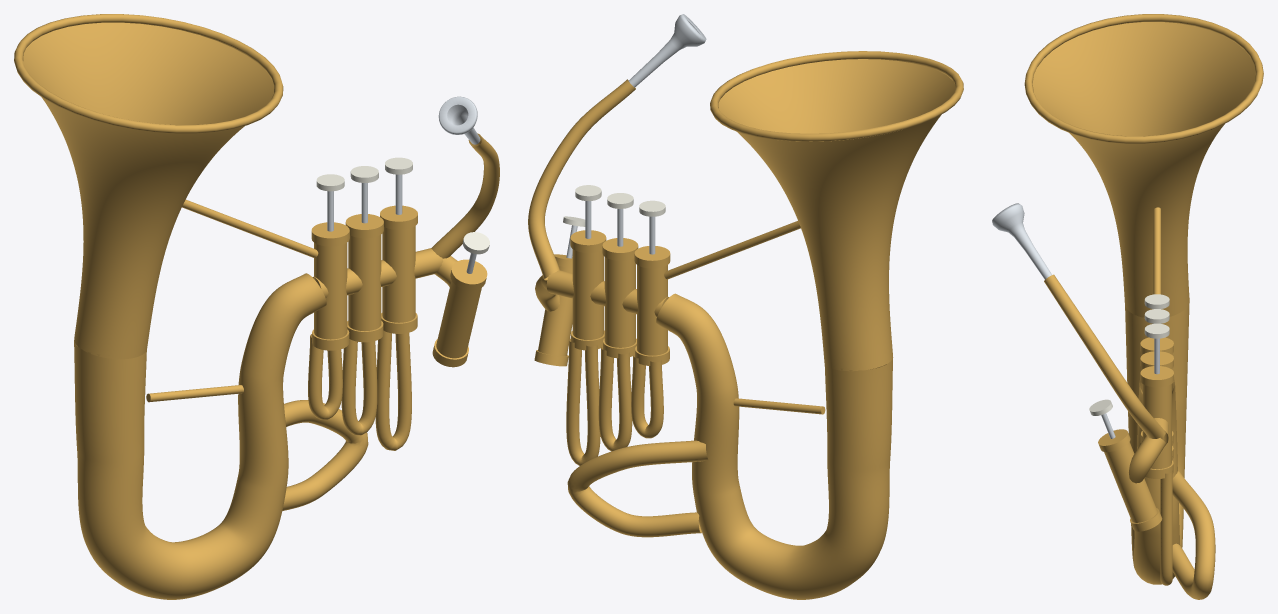
Rendered from euphonium.glb.
3 views of the same model, side by side, from view 1: azimuth 30°, elevation 25°; view 2: azimuth 150°, elevation 25°; view 3: azimuth 270°, elevation 25° (orthographic). The views are drawn at different scales.
Size of the model in its own units: 0.595 by 0.7016 by 0.3521.
